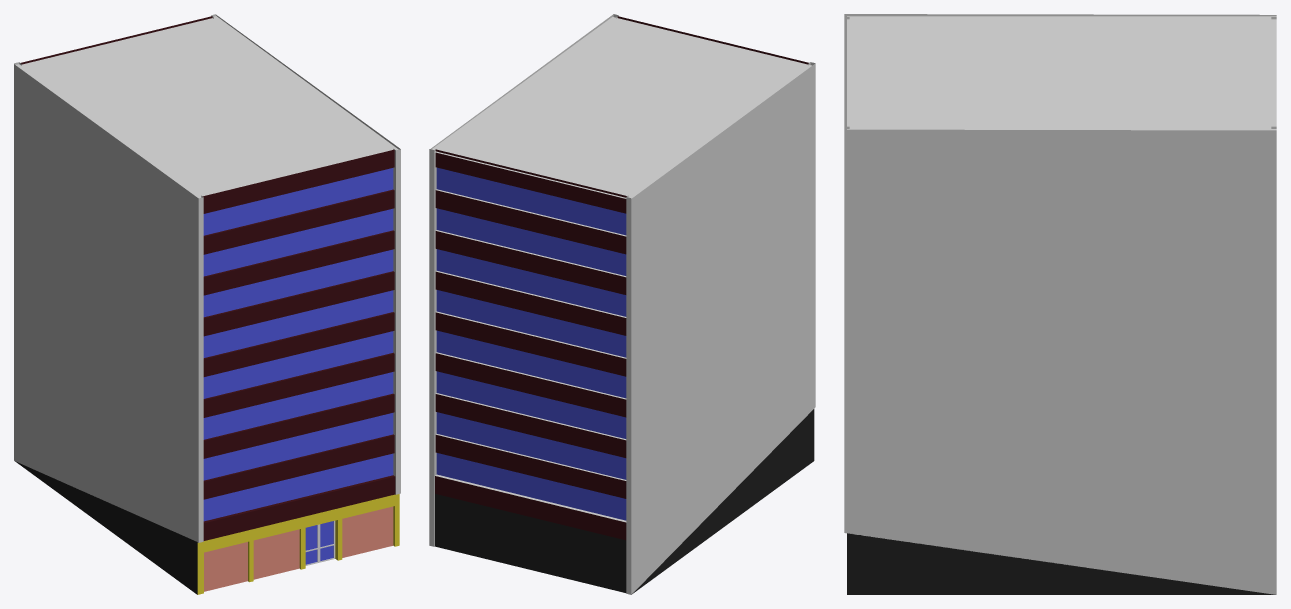
The model's file is building22.fbx.
The picture shows the model from 3 angles, left to right: view 1: azimuth 30°, elevation 25°; view 2: azimuth 150°, elevation 25°; view 3: azimuth 270°, elevation 25°; orthographic projection. The views are drawn at different scales.
Parts seen in each view (by area): view 1: building11; view 2: building11; view 3: building11.
Boxes of the visible parts, x1,y1,x2,y2 form: building11: (14,14,400,594); building11: (429,14,815,594); building11: (844,14,1276,594).
Size of the model in its own units: 1400 by 2629 by 2214.
